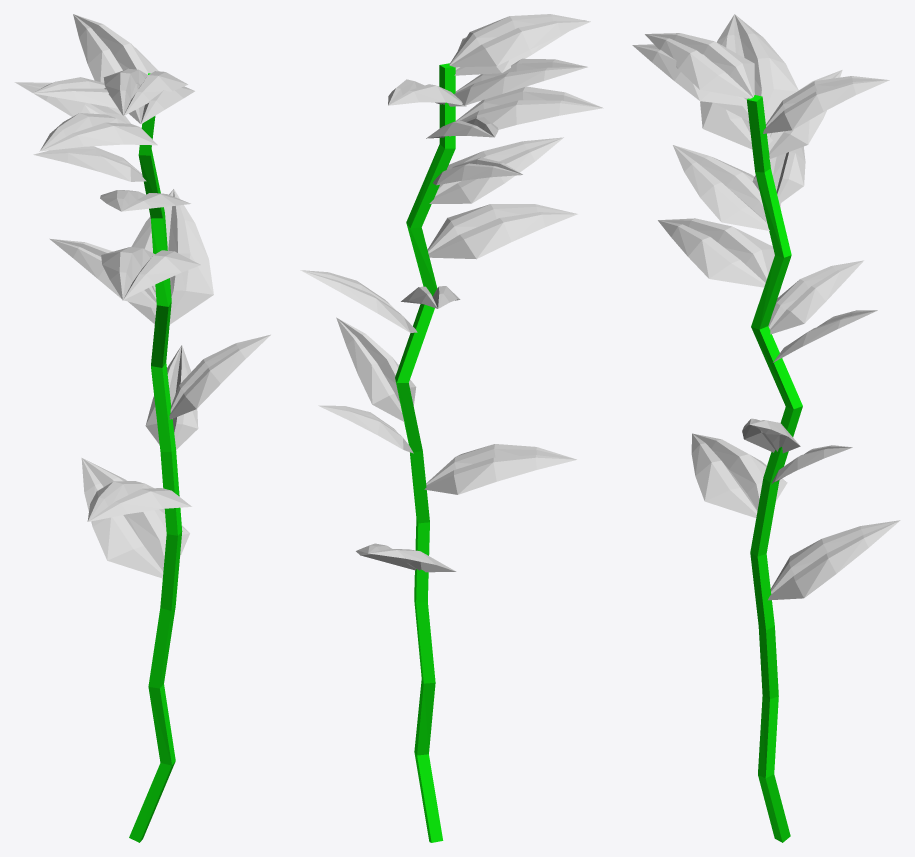
File: grasBig_6.fbx
3 views of the same model, side by side, from view 1: azimuth 30°, elevation 25°; view 2: azimuth 150°, elevation 25°; view 3: azimuth 270°, elevation 25° (orthographic). The views are drawn at different scales.
Visible parts, largest first — view 1: quickmaterial1; view 2: quickmaterial1; view 3: quickmaterial1.
Part boxes in pixels (x1=…): quickmaterial1: x1=14, y1=14, x2=270, y2=842; quickmaterial1: x1=300, y1=14, x2=603, y2=842; quickmaterial1: x1=632, y1=14, x2=900, y2=842.
Size of the model in its own units: 0.3407 by 1.05 by 0.329.
